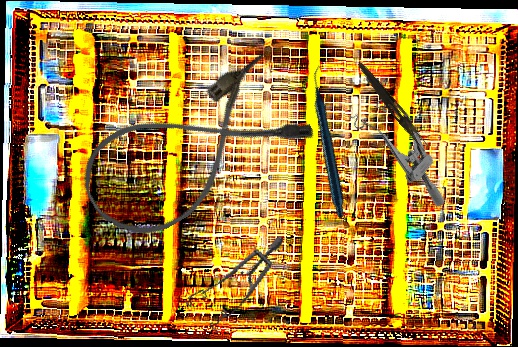Cannula: (67, 46, 319, 255)
Dressing Forceps: (353, 60, 433, 153)
Handpiece: (262, 65, 398, 219)
Speculum: (340, 83, 475, 210), (178, 214, 285, 343)
